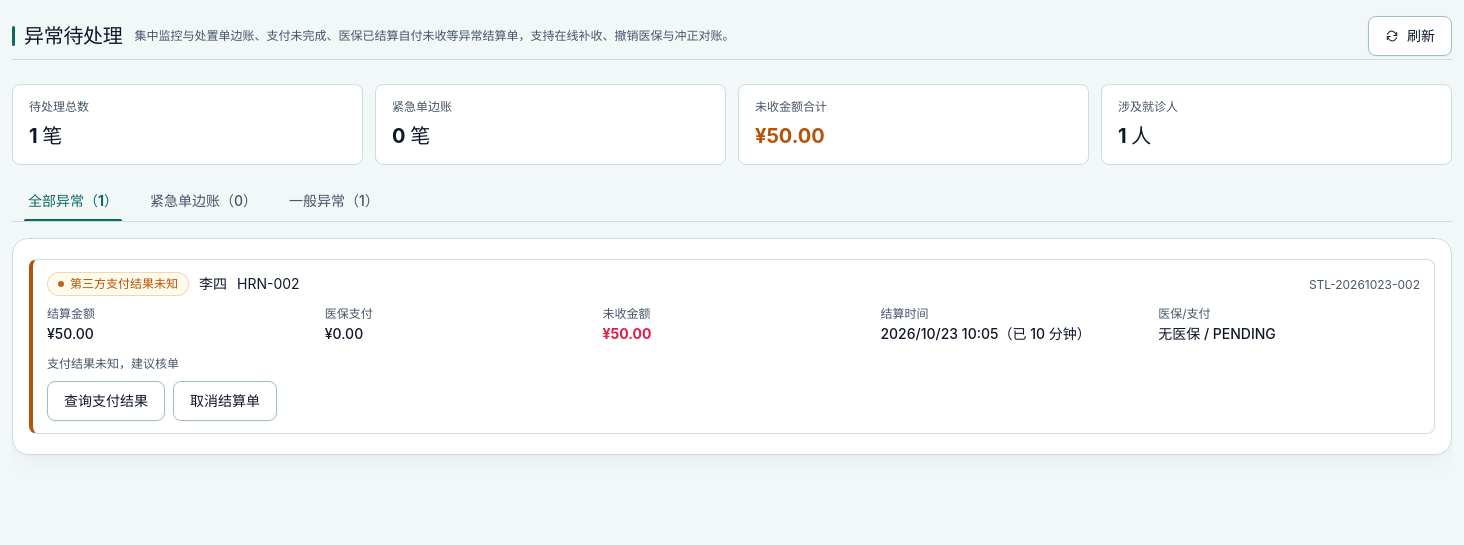
SettlementExceptionWorkspace › executes query payment order action
The width and height of the screenshot is (1464, 545).
Click the button "查询支付结果" at (106, 401), box [47,381,165,421]
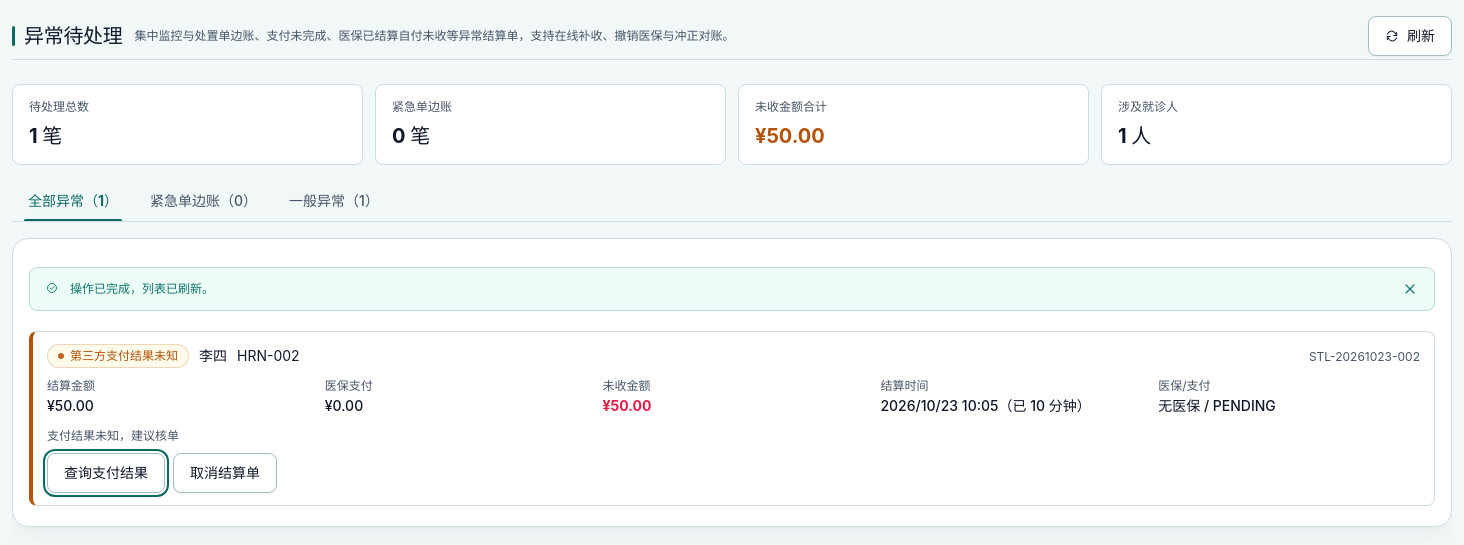
Check: the text "操作已完成，列表已刷新。" is shown, box [70,281,214,296]
